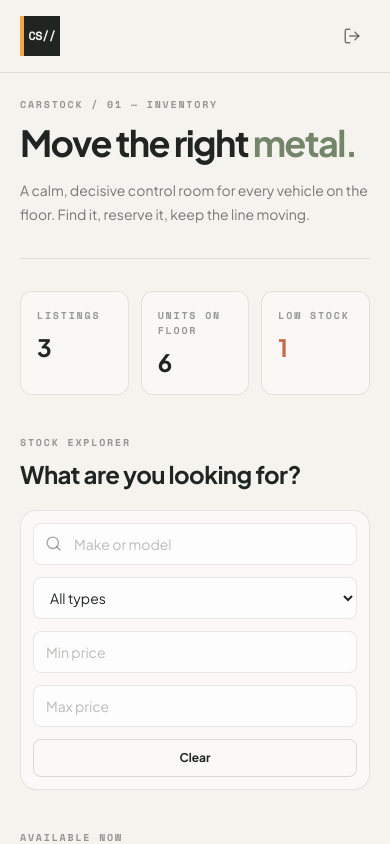
Test: Dashboard (customer) › signs out and returns to the login screen
Click the button named "sign out".
click(352, 36)  # box [334,18,370,54]
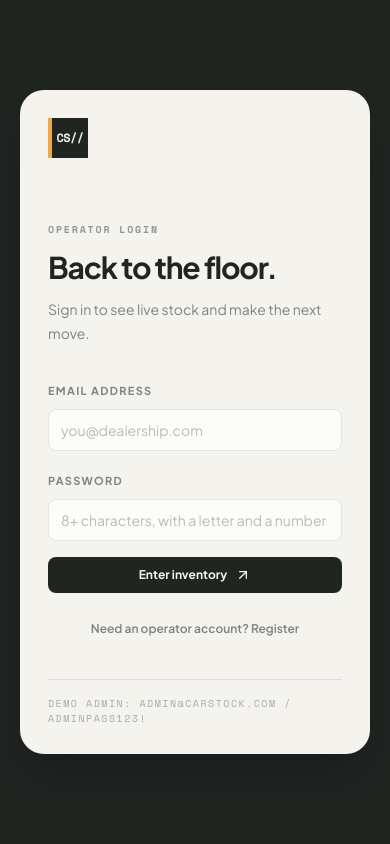
Expected: the heading "Back to the floor." is shown, [48,248,277,286]
